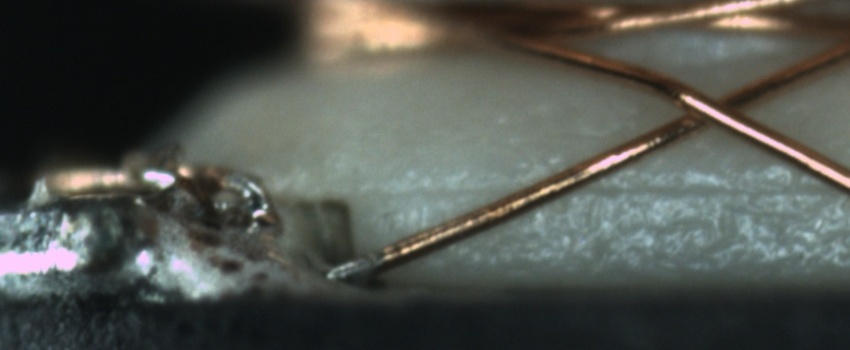CL: (657, 77, 766, 141)
DL: (383, 159, 850, 223)
TE: (44, 150, 290, 231)
TS: (325, 253, 381, 282)
